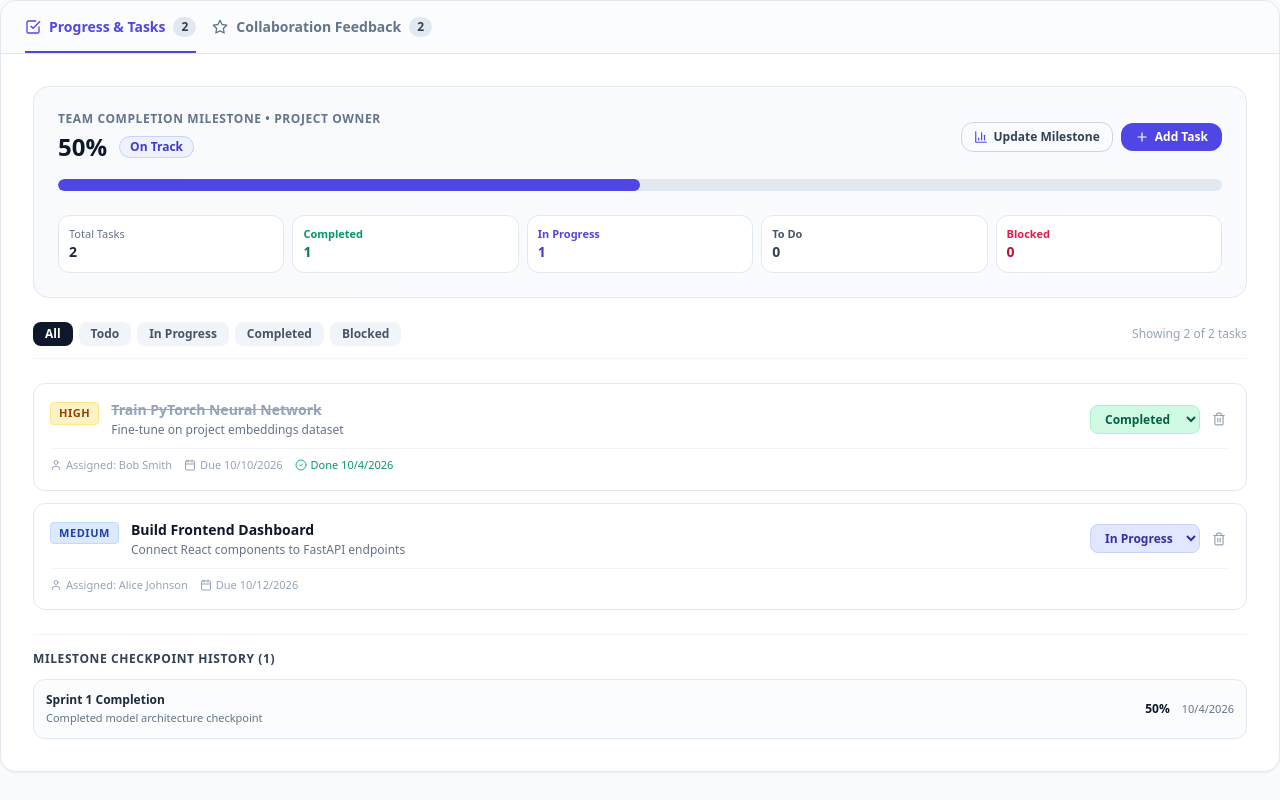
Test: Phase 14: Project Progress & Collaboration Feedback Frontend Tests › filters tasks by workflow status
Expected: the heading "Train PyTorch Neural Network" is shown, left=111, top=400, right=344, bottom=420
Click 'in progress' filter button
Click the button "in progress".
click(183, 334)  # box left=137, top=322, right=229, bottom=346
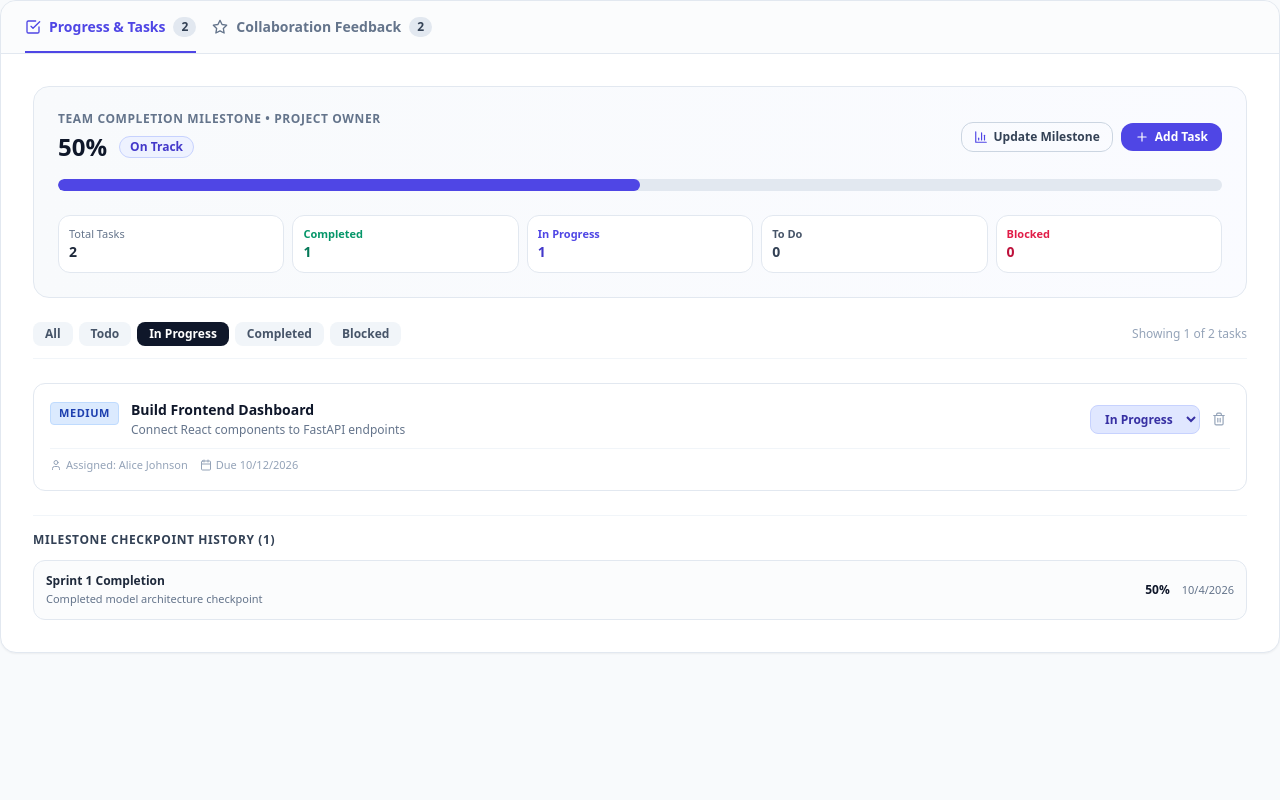
Expected: the heading "Build Frontend Dashboard" is shown, left=131, top=400, right=314, bottom=419
Now the heading "Train PyTorch Neural Network" is gone
